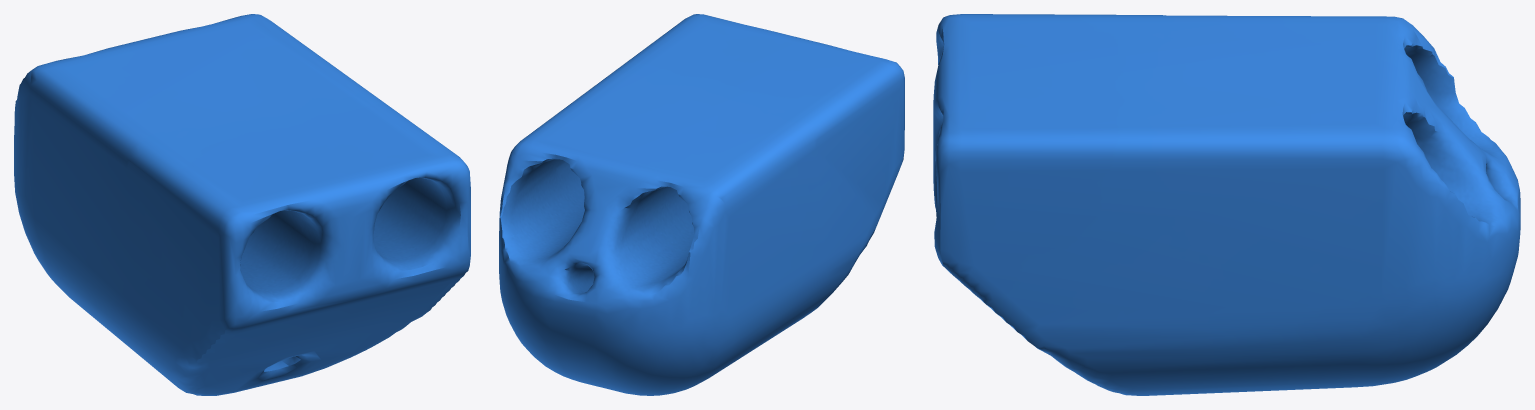
File: right_finger3_upper.obj
The picture shows the model from 3 angles, left to right: view 1: azimuth 30°, elevation 25°; view 2: azimuth 150°, elevation 25°; view 3: azimuth 270°, elevation 25°; orthographic projection. The views are drawn at different scales.
Visible parts, largest first — view 1: right_finger3_upper; view 2: right_finger3_upper; view 3: right_finger3_upper.
Part boxes in pixels (<box>): right_finger3_upper: <box>14,14,470,395</box>; right_finger3_upper: <box>499,14,904,395</box>; right_finger3_upper: <box>933,14,1520,395</box>.
Bounding box in the file's own units: 0.0107 × 0.0109 × 0.0196.
Materials: 1 (1 with a texture image).
